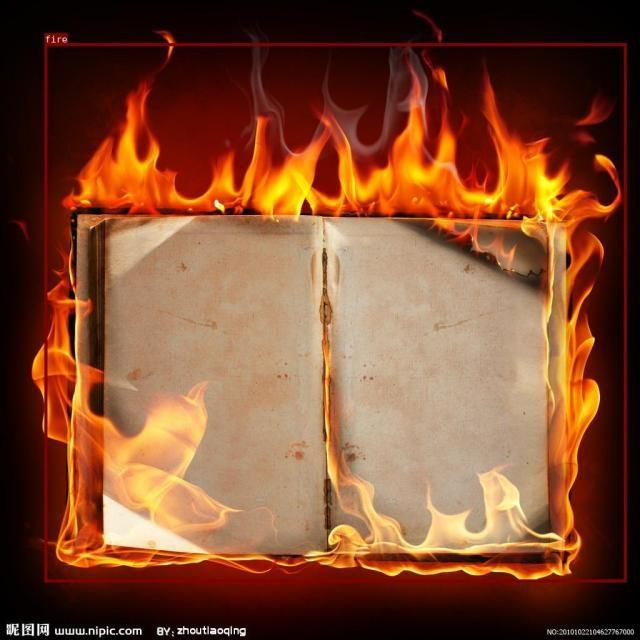fire: (44, 43, 626, 582)
